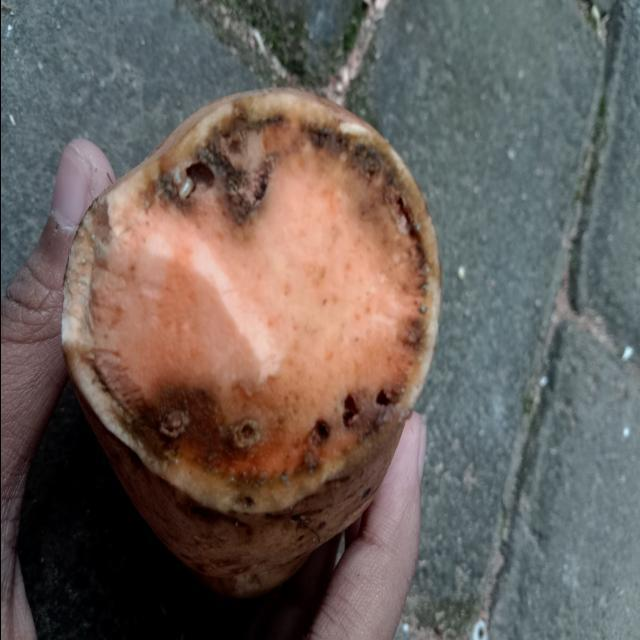Sick Sweet Potato_Tuber Rot: (61, 90, 439, 513)
